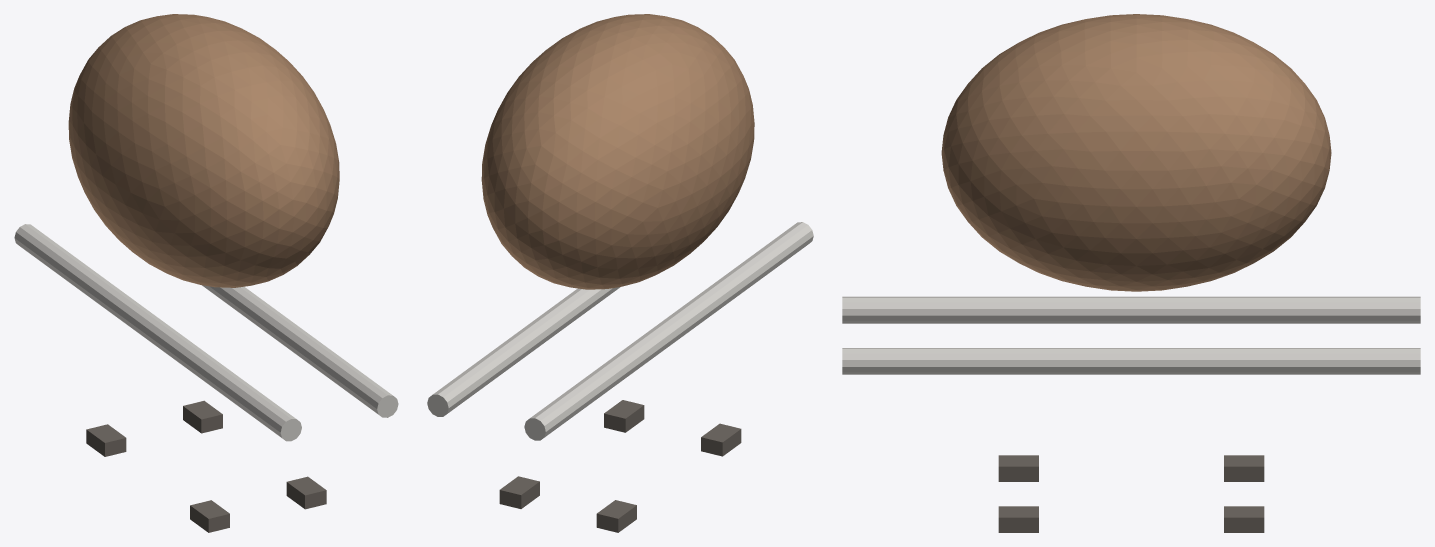
Rendered from llama_assembled.glb.
The picture shows the model from 3 angles, left to right: view 1: azimuth 30°, elevation 25°; view 2: azimuth 150°, elevation 25°; view 3: azimuth 270°, elevation 25°; orthographic projection. The views are drawn at different scales.
Visible parts, largest first — view 1: body, world; view 2: body, world; view 3: body, world.
Boxes of the visible parts, x1,y1,x2,y2 form: body: (68,14,339,287); world: (14,224,398,532); body: (481,14,754,289); world: (427,222,813,532); body: (941,14,1331,291); world: (842,296,1420,532).
Bounding box in the file's own units: 0.76 × 1.57 × 1.72.
